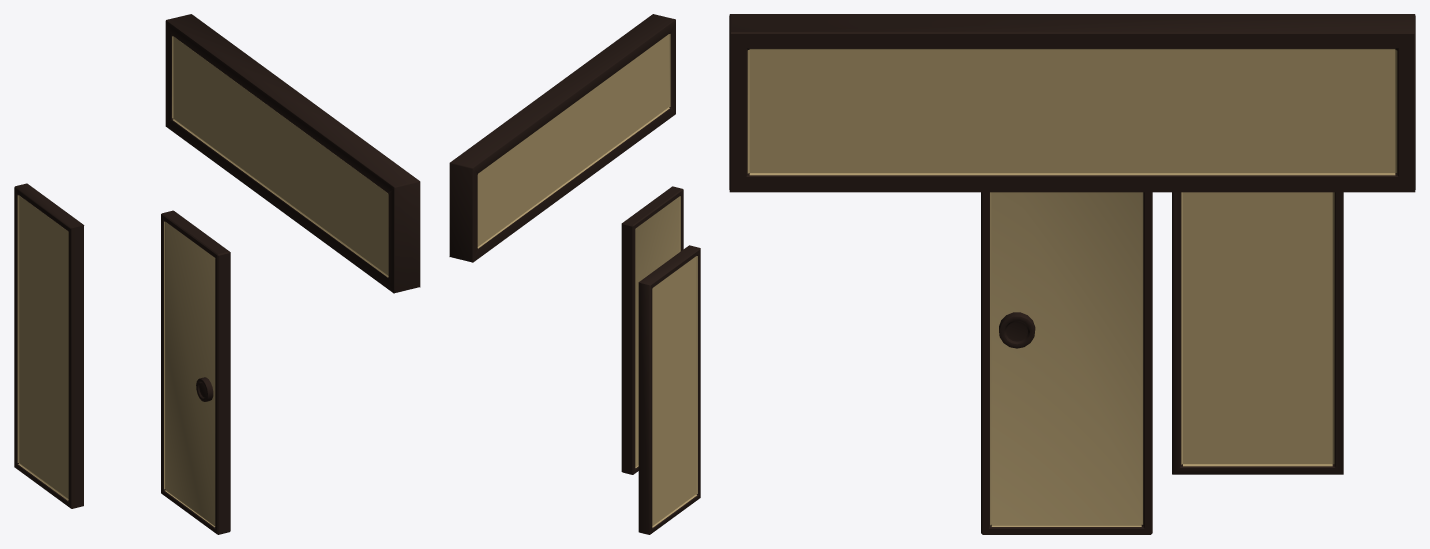
The model's file is DoorSmallWallModel.FBX.
3 views of the same model, side by side, from view 1: azimuth 30°, elevation 25°; view 2: azimuth 150°, elevation 25°; view 3: azimuth 270°, elevation 25° (orthographic). The views are drawn at different scales.
Visible parts, largest first — view 1: Object001, Box001, Object002; view 2: Object001, Box001, Object002; view 3: Object001, Object002, Box001.
Boxes of the visible parts, x1,y1,x2,y2 form: Object001: (165,14,420,293); Box001: (14,183,84,508); Object002: (161,210,230,534); Object001: (449,14,675,262); Box001: (638,245,700,534); Object002: (621,186,683,474); Object001: (729,14,1415,192); Object002: (981,192,1152,534); Box001: (1172,192,1343,474).
Bounding box in the file's own units: 38.18 × 70 × 75.
